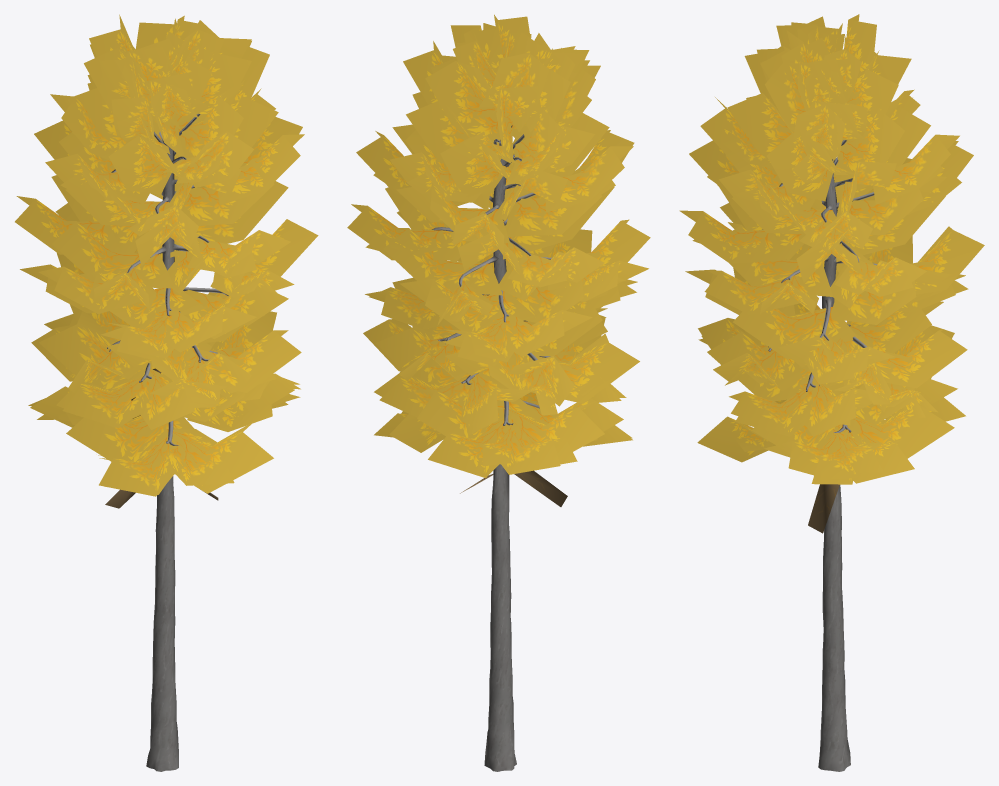
File: TreeVariation_LOD2.fbx
The picture shows the model from 3 angles, left to right: view 1: azimuth 30°, elevation 25°; view 2: azimuth 150°, elevation 25°; view 3: azimuth 270°, elevation 25°; orthographic projection.
Visible parts, largest first — view 1: leaves_1, bark_base_0; view 2: leaves_1, bark_base_0, branch_2; view 3: leaves_1, bark_base_0, branch_2.
Boxes of the visible parts, x1,y1,x2,y2 form: leaves_1: [15, 14, 318, 496]; bark_base_0: [107, 113, 228, 771]; leaves_1: [347, 14, 650, 477]; bark_base_0: [432, 125, 551, 771]; branch_2: [460, 470, 567, 506]; leaves_1: [679, 14, 984, 484]; bark_base_0: [762, 140, 877, 771]; branch_2: [808, 484, 839, 533].
Bounding box in the file's own units: 509 × 1369 × 517.
